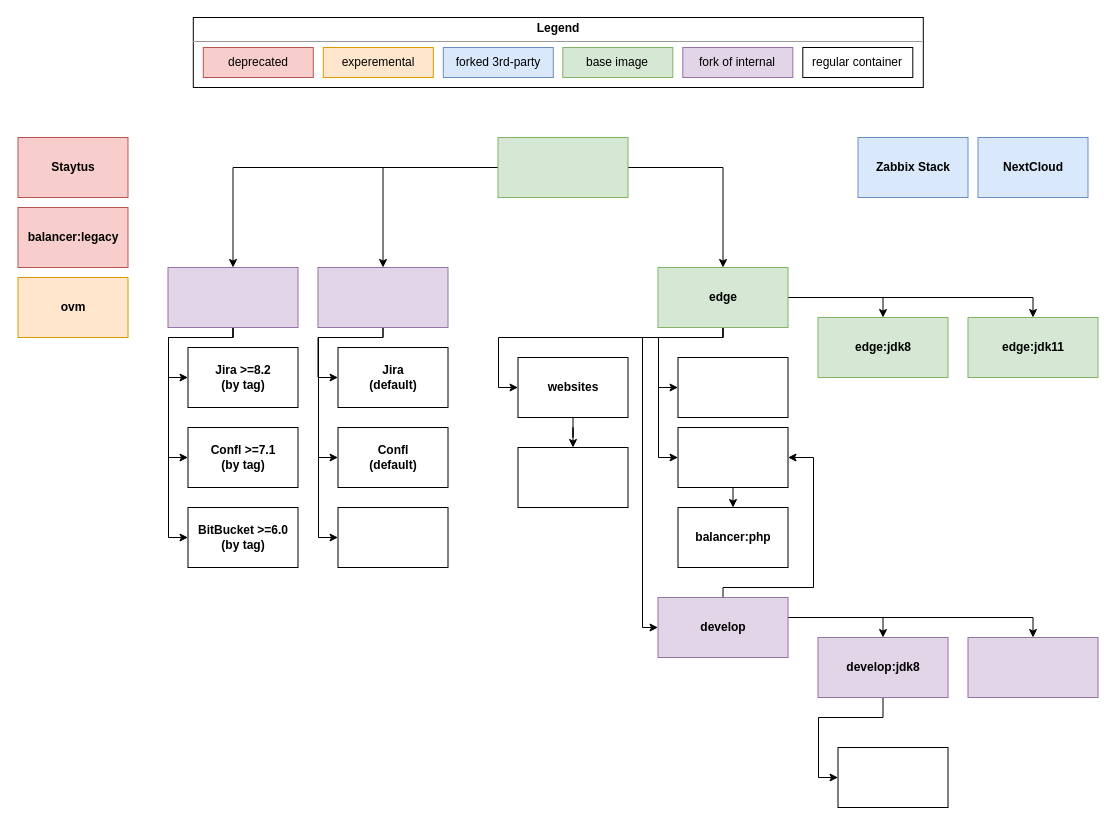
Image size: 1115x825. Some labels were removed from this diagram. Here are the shapes that lost their labels. From the top down, the centre of each, then its label:
(562,167): prod
(232,297): prod :jdk 11
(382,297): prod :jdk8
(732,387): qbittorrent
(572,477): websites:php7.2
(732,457): balancer
(392,537): BitBucket ( default )
(1032,667): develop :jdk11
(892,777): teamcity-agent
